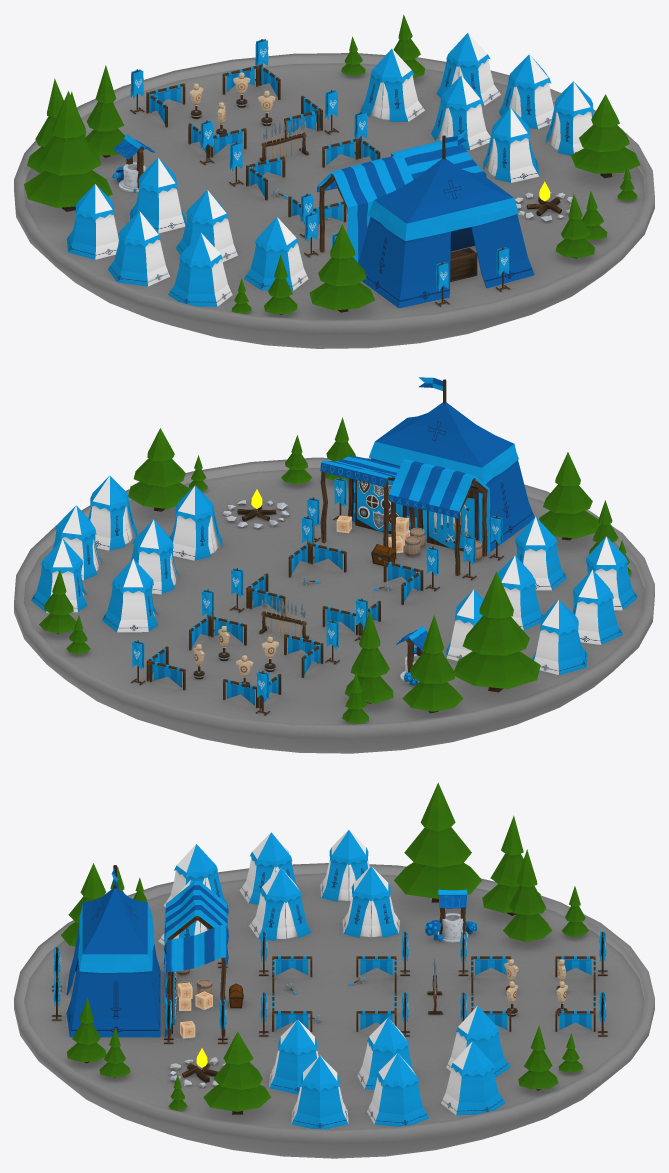
Rendered from medieval_training_grounds_asset_collection.glb.
3 renders of one model, top to bottom at view 1: azimuth 30°, elevation 25°; view 2: azimuth 150°, elevation 25°; view 3: azimuth 270°, elevation 25°, orthographic.
Parts seen in each view (by area): view 1: g (×35); view 2: g (×37); view 3: g (×32).
Boxes of the visible parts, x1=… form: g (×35): x1=14, y1=14, x2=654, y2=348; g (×37): x1=14, y1=377, x2=654, y2=753; g (×32): x1=14, y1=782, x2=654, y2=1158.
Bounding box in the file's own units: 3.3 × 1.11 × 3.3.
18 materials, 18 textured.
